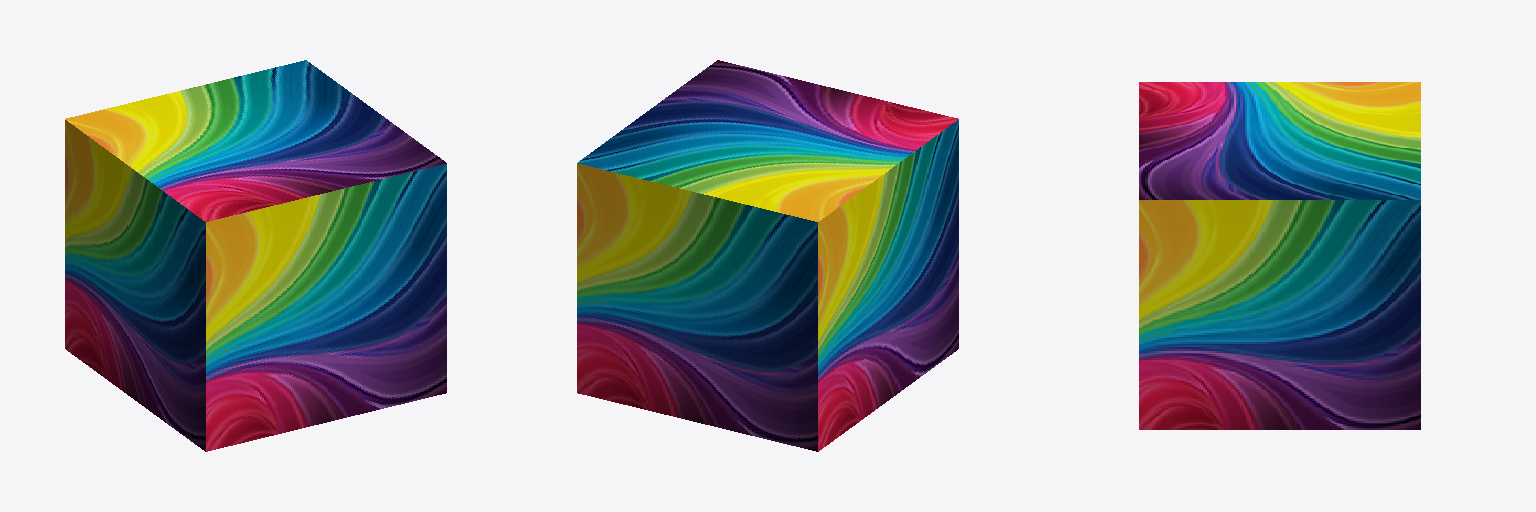
3 renders of one model, left to right at view 1: azimuth 30°, elevation 25°; view 2: azimuth 150°, elevation 25°; view 3: azimuth 270°, elevation 25°, orthographic.
Parts seen in each view (by area): view 1: cube; view 2: cube; view 3: cube.
Part boxes in pixels (x1,y1,x2,y2): cube: (65, 60, 446, 451); cube: (577, 60, 958, 451); cube: (1139, 82, 1420, 429).
Bounding box in the file's own units: 25.97 × 23.59 × 26.27.
1 materials, 1 textured.